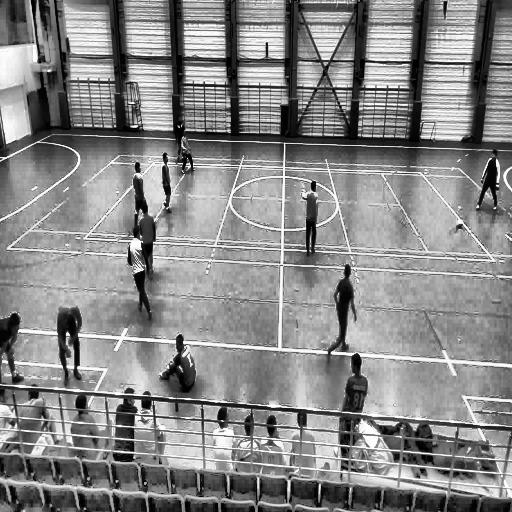ball: (456, 218, 464, 230)
player: (328, 264, 356, 356), (54, 302, 85, 385), (128, 225, 152, 320), (474, 148, 500, 214), (139, 201, 156, 282), (303, 180, 319, 258), (133, 161, 148, 229), (160, 150, 174, 215), (179, 126, 196, 174), (175, 114, 185, 160)
